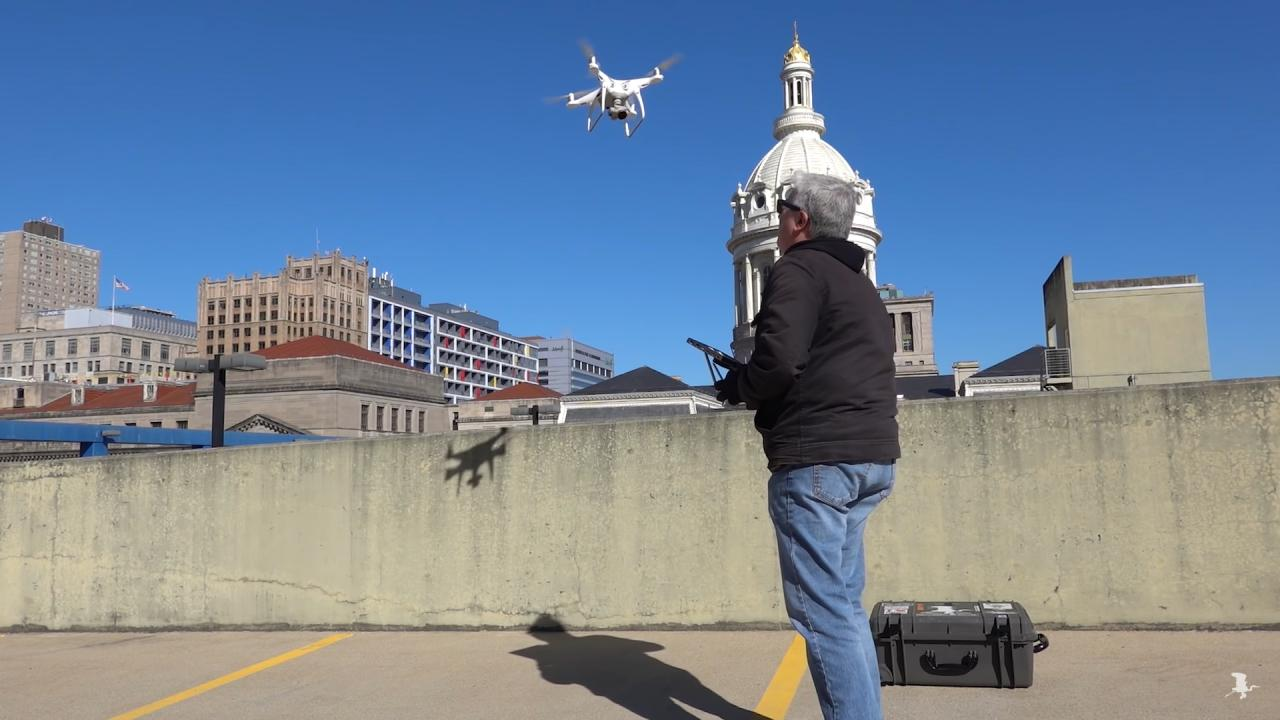Drone: (534, 28, 698, 149)
